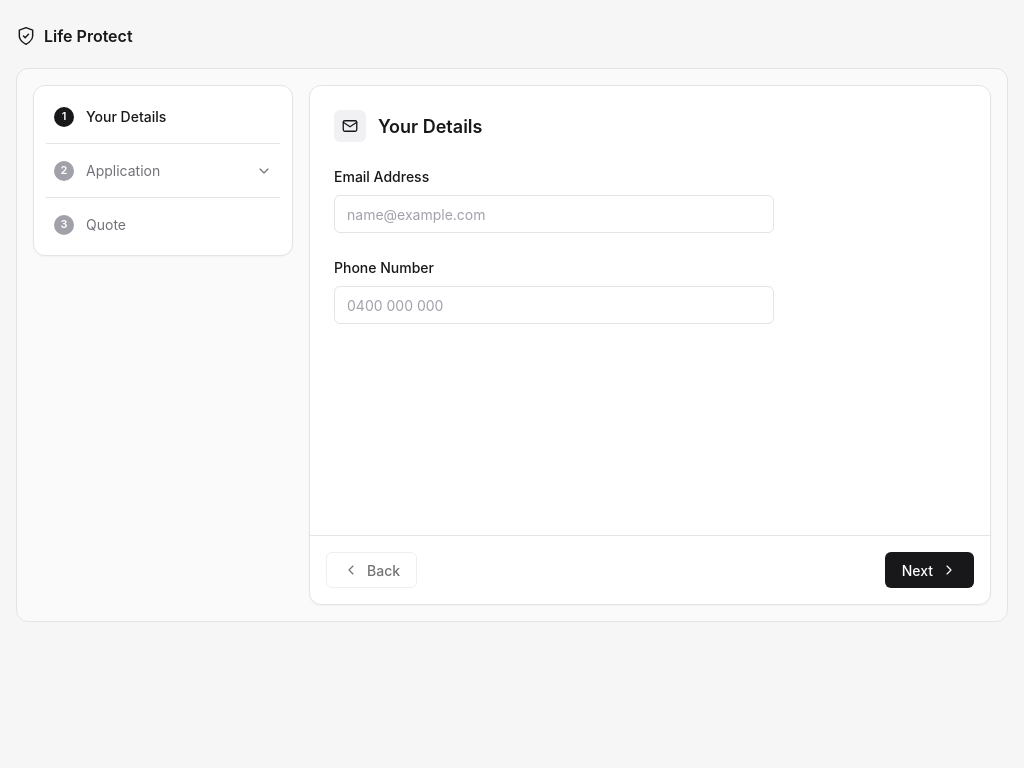
insurance application journey › validates required fields before allowing the customer to continue
Expected: the heading "Your Details" is shown, [378,112,482,140]
Click the button "Next".
click(929, 570)  # box [885,552,974,588]
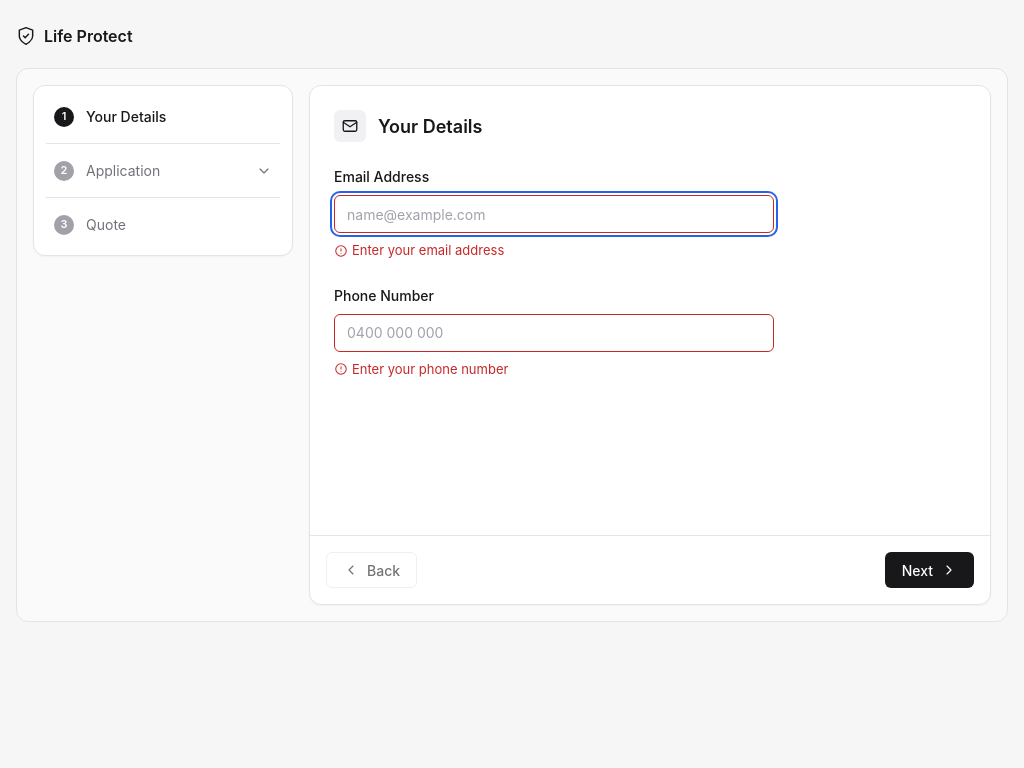
Expected: the heading "Your Details" is shown, [378,112,482,140]
Expected: the text "Enter your email address" is shown, [334,242,504,258]
Expected: the text "Enter your phone number" is shown, [334,360,508,376]
